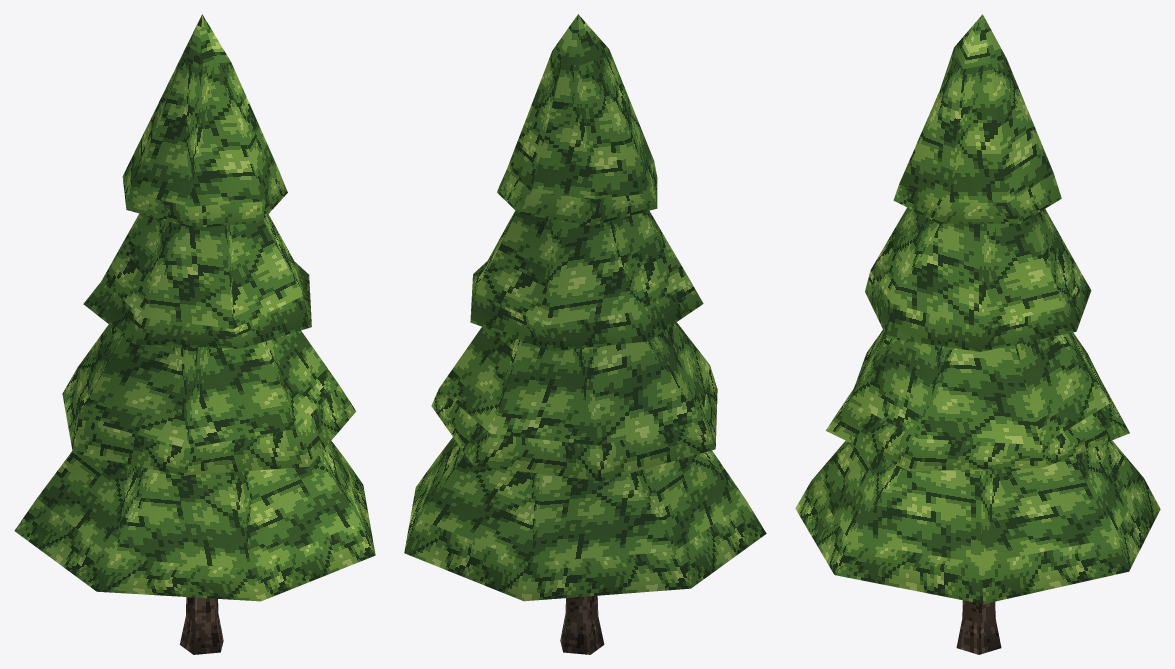
Rendered from mnat.pine.glb.
The picture shows the model from 3 angles, left to right: view 1: azimuth 30°, elevation 25°; view 2: azimuth 150°, elevation 25°; view 3: azimuth 270°, elevation 25°; orthographic projection.
Parts seen in each view (by area): view 1: kit_tiers, kit_trunk; view 2: kit_tiers, kit_trunk; view 3: kit_tiers, kit_trunk.
Part boxes in pixels (bbox=[...]): kit_tiers: bbox=[14, 14, 375, 601]; kit_trunk: bbox=[179, 597, 223, 654]; kit_tiers: bbox=[404, 14, 766, 601]; kit_trunk: bbox=[560, 595, 604, 654]; kit_tiers: bbox=[795, 14, 1160, 604]; kit_trunk: bbox=[956, 600, 1001, 654].
Size of the model in its own units: 4.52 by 8.74 by 4.59.
2 materials, 2 textured.
